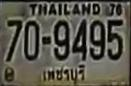0: (24, 20, 38, 60)
4: (72, 18, 86, 60)
5: (107, 19, 122, 59)
7: (6, 19, 21, 60)
9: (53, 20, 69, 60), (89, 19, 104, 59)
PBI: (40, 64, 86, 85)
